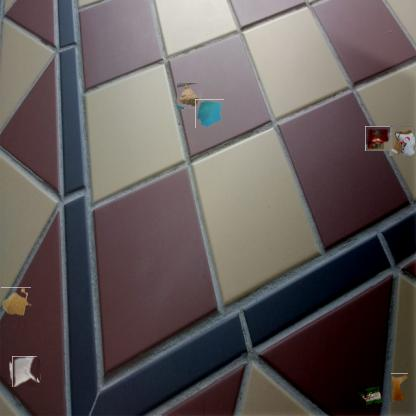dirty: (195, 99, 224, 128), (10, 357, 38, 386), (390, 127, 416, 156), (176, 83, 202, 109), (365, 126, 390, 151), (357, 384, 381, 408)
liquid: (1, 287, 31, 316), (390, 373, 408, 402)
